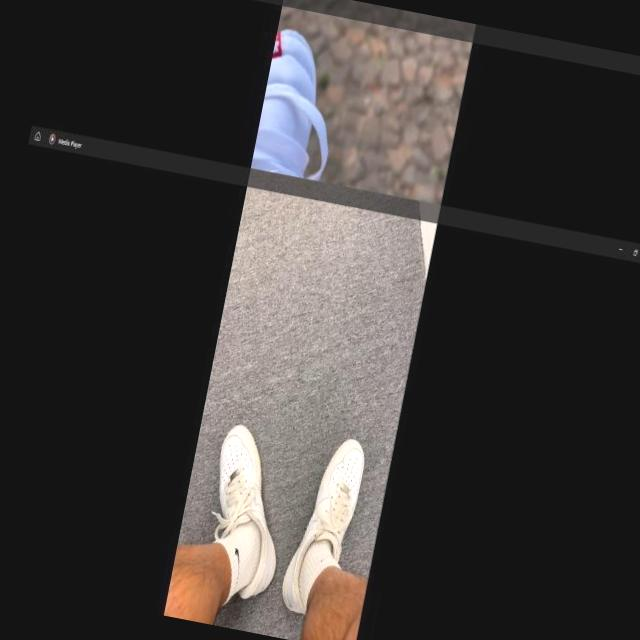nike_original_airforce: (195, 422, 302, 604), (278, 430, 370, 620)
